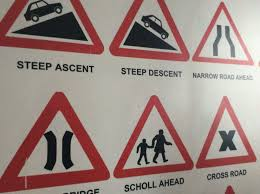Narrow_road: (192, 2, 255, 68)
